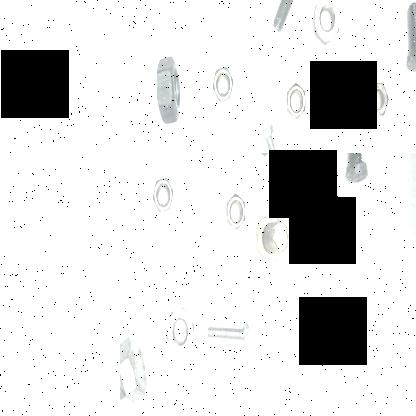Bolts: (120, 330, 152, 416), (252, 203, 291, 272), (204, 317, 256, 352), (270, 0, 306, 37), (338, 153, 374, 189), (400, 0, 416, 75), (258, 125, 292, 153)
NUTS: (152, 48, 184, 130), (161, 302, 199, 360), (313, 0, 347, 48), (303, 186, 331, 236), (148, 172, 176, 221), (222, 184, 248, 234), (210, 63, 238, 108), (364, 76, 392, 120), (282, 76, 308, 122)
